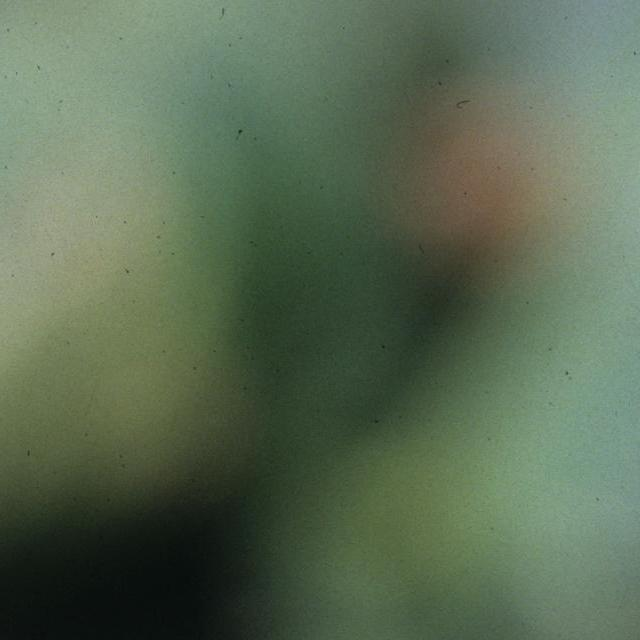Tomato leaf bacterial spot: (0, 168, 640, 640)
